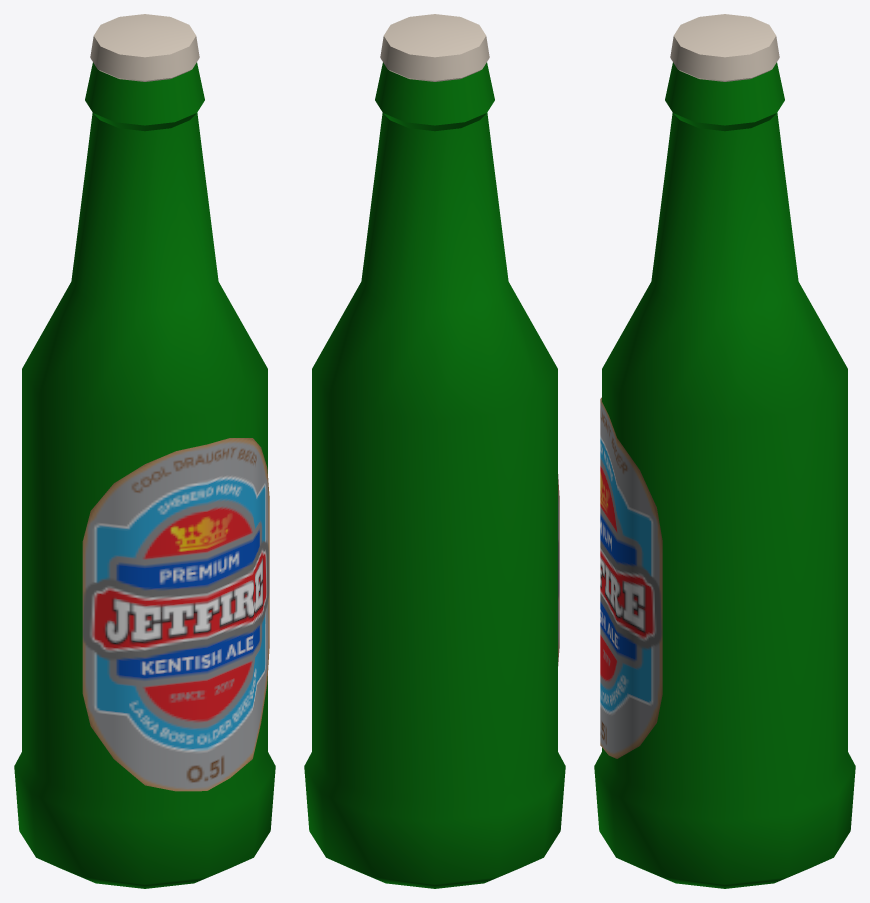
The model's file is PREF_bottle_beer_01 1.fbx.
3 views of the same model, side by side, from view 1: azimuth 30°, elevation 25°; view 2: azimuth 150°, elevation 25°; view 3: azimuth 270°, elevation 25° (orthographic).
Parts seen in each view (by area): view 1: PREF_bottle_beer_01_1; view 2: PREF_bottle_beer_01_1; view 3: PREF_bottle_beer_01_1.
Part boxes in pixels (bbox=[...]): PREF_bottle_beer_01_1: bbox=[14, 14, 275, 888]; PREF_bottle_beer_01_1: bbox=[304, 14, 565, 888]; PREF_bottle_beer_01_1: bbox=[594, 14, 855, 888].
Bounding box in the file's own units: 9.53 × 32.87 × 9.53.
1 material, 1 textured.
